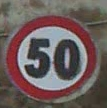limite 50: (1, 12, 100, 103)
